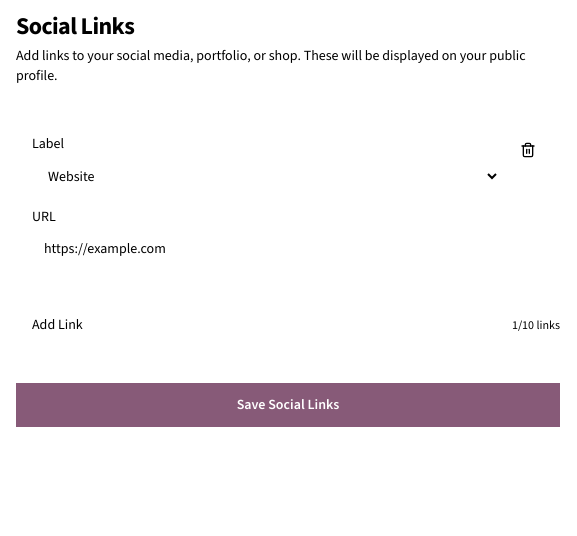
SocialLinksForm › form submission › displays server validation errors
The width and height of the screenshot is (577, 536).
What coordinates should you click on to do the following:
click the button "Save Social Links"
I would click on:
 (288, 405)
Its box is [16, 383, 560, 427].
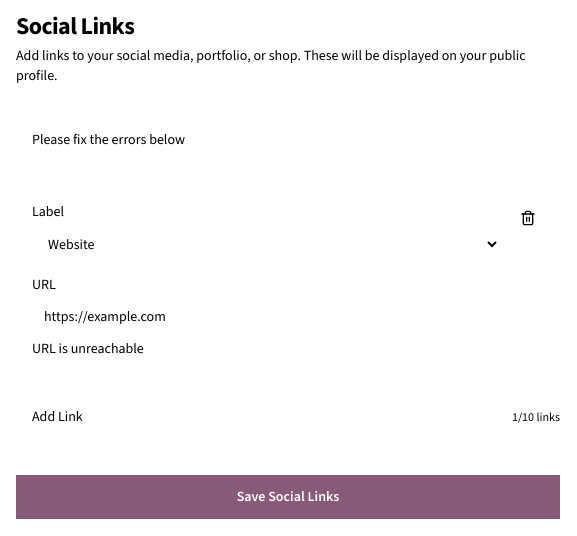
Now the text "URL is unreachable" is shown, box [32, 339, 144, 358]
Now the text "Please fix the errors below" is shown, box [32, 130, 185, 149]
